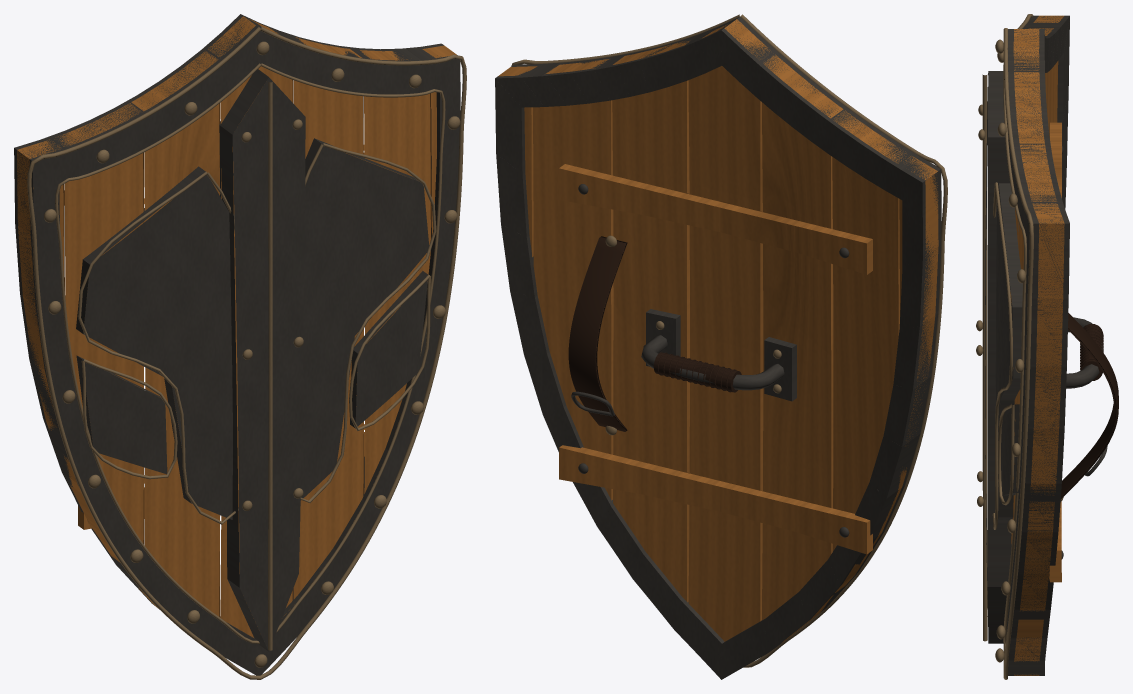
The model's file is teak_shield.glb.
3 renders of one model, left to right at view 1: azimuth 30°, elevation 25°; view 2: azimuth 150°, elevation 25°; view 3: azimuth 270°, elevation 25°, orthographic.
Parts seen in each view (by area): view 1: forged-shield-metal, oiled-teak, worn-polished-edges; view 2: oiled-teak, forged-shield-metal, rear-oiled-leather, worn-polished-edges; view 3: forged-shield-metal, oiled-teak, worn-polished-edges, rear-oiled-leather.
Boxes of the visible parts, x1=… form: forged-shield-metal: x1=14, y1=14, x2=460, y2=675; oiled-teak: x1=17, y1=16, x2=456, y2=637; worn-polished-edges: x1=27, y1=26, x2=466, y2=679; oiled-teak: x1=498, y1=19, x2=938, y2=643; forged-shield-metal: x1=495, y1=17, x2=941, y2=679; rear-oiled-leather: x1=568, y1=236, x2=741, y2=431; worn-polished-edges: x1=511, y1=14, x2=947, y2=667; forged-shield-metal: x1=985, y1=15, x2=1107, y2=675; oiled-teak: x1=1010, y1=15, x2=1064, y2=675; worn-polished-edges: x1=976, y1=14, x2=1063, y2=679; rear-oiled-leather: x1=1060, y1=313, x2=1118, y2=499.
Bounding box in the file's own units: 0.6363 × 0.9049 × 0.1799.
4 materials, 4 textured.
